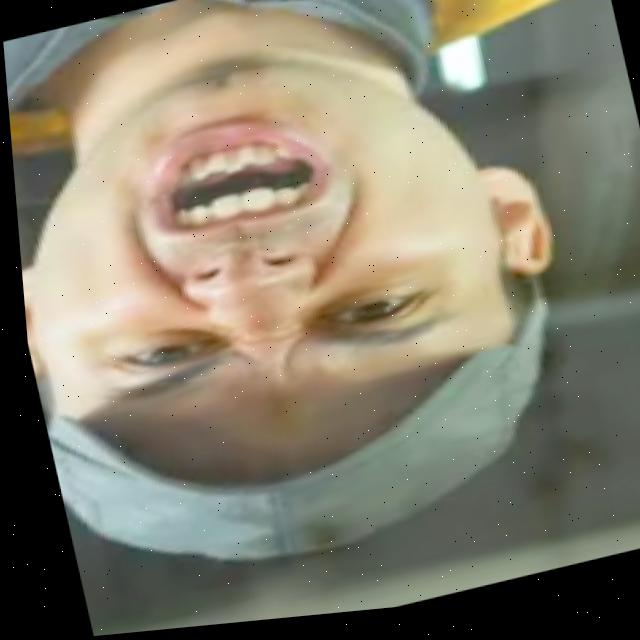angry: (0, 0, 518, 472)
